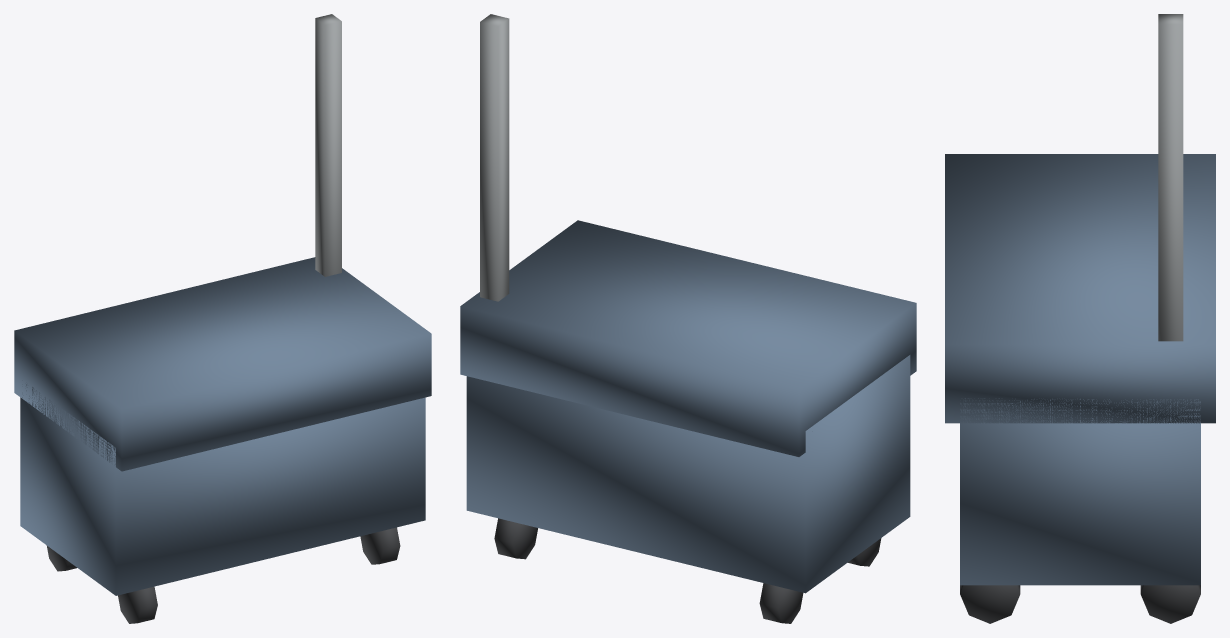
The model's file is housekeeping_cart__compact.glb.
3 views of the same model, side by side, from view 1: azimuth 30°, elevation 25°; view 2: azimuth 150°, elevation 25°; view 3: azimuth 270°, elevation 25° (orthographic). The views are drawn at different scales.
Parts seen in each view (by area): view 1: world; view 2: world; view 3: world.
Boxes of the visible parts, x1,y1,x2,y2 form: world: [14, 14, 431, 623]; world: [460, 14, 916, 623]; world: [945, 14, 1215, 623].
Size of the model in its own units: 0.7728 by 1.16 by 0.4644.
